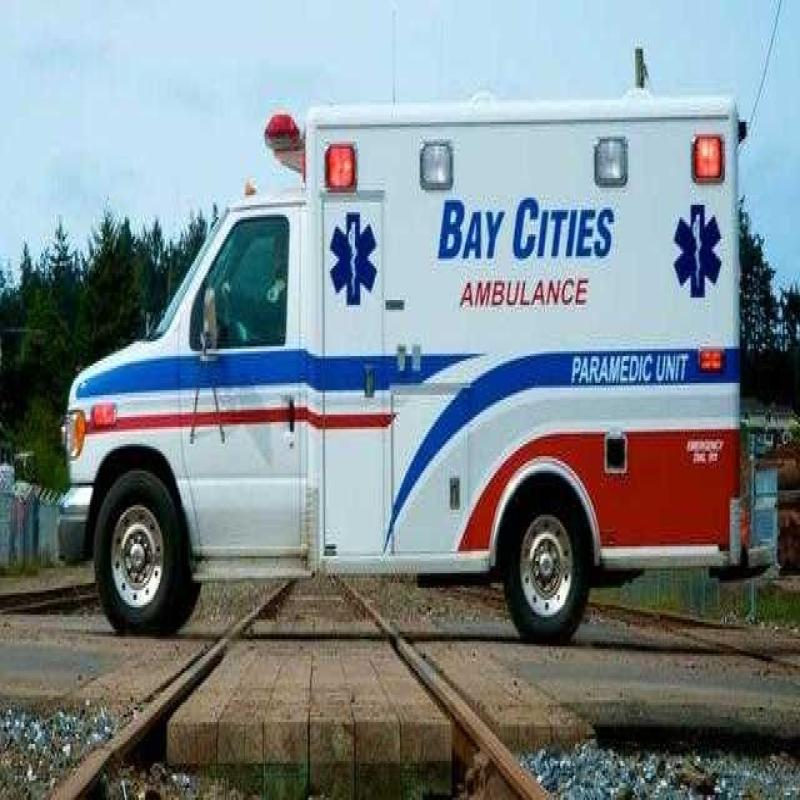AmbulanceSiren: (587, 126, 726, 201), (324, 138, 456, 197), (263, 94, 306, 186)
